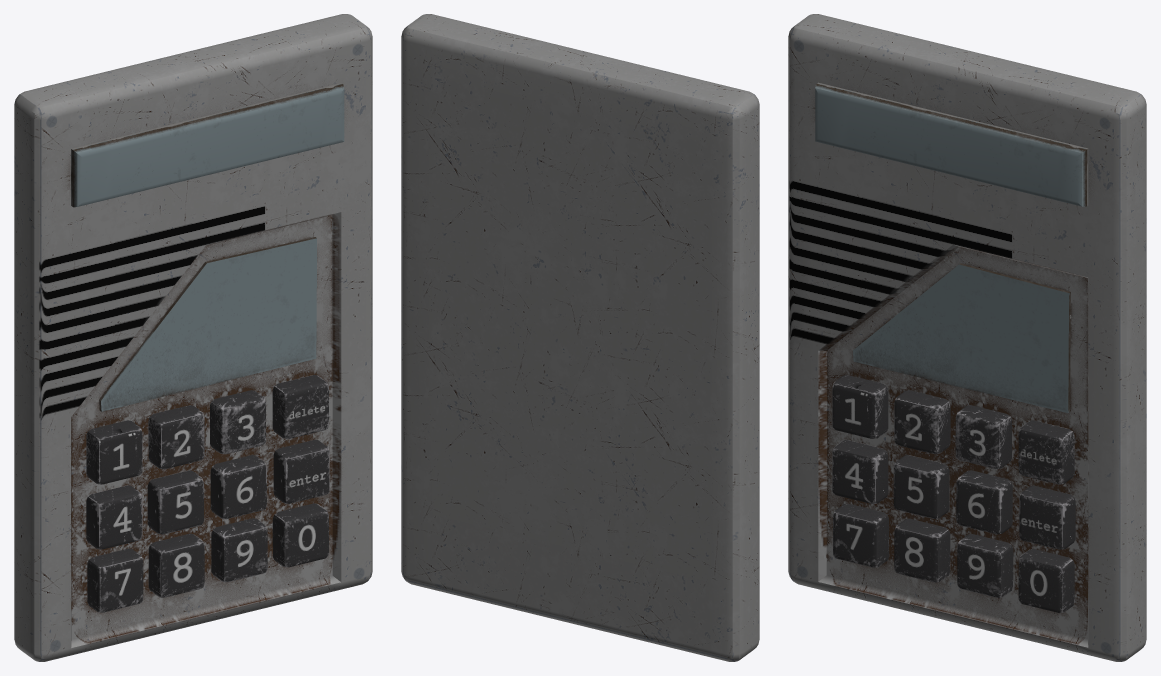
Rendered from panel.fbx.
3 views of the same model, side by side, from view 1: azimuth 30°, elevation 25°; view 2: azimuth 150°, elevation 25°; view 3: azimuth 330°, elevation 25° (orthographic).
Parts seen in each view (by area): view 1: panel1; view 2: panel1; view 3: panel1.
Part boxes in pixels (x1=…): panel1: x1=14, y1=14, x2=372, y2=661; panel1: x1=401, y1=14, x2=759, y2=661; panel1: x1=788, y1=14, x2=1146, y2=661.
Size of the model in its own units: 7.31 by 11.44 by 1.29.
